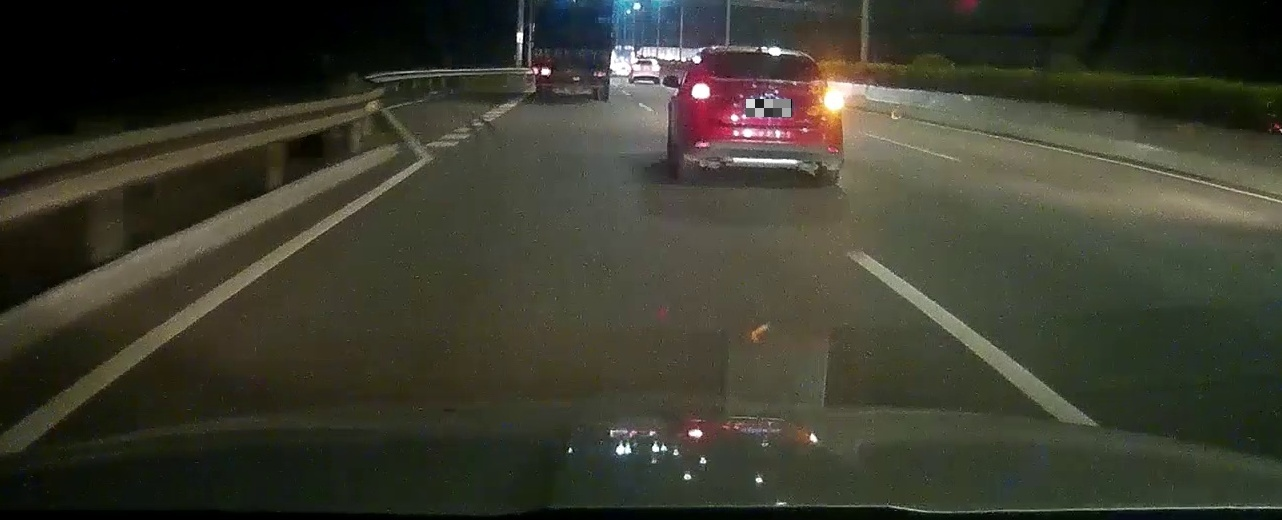L_light: (690, 81, 715, 101), (532, 67, 551, 77)
R_light: (821, 89, 844, 110), (592, 68, 609, 78)
T_light: (756, 52, 783, 60), (566, 48, 580, 54)
night-no: (530, 0, 612, 103)
night-right: (681, 44, 845, 185)
plate_1: (746, 99, 792, 117)
